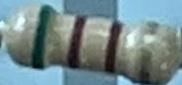Brown: (103, 19, 126, 73), (66, 16, 89, 68)
Green: (31, 4, 54, 69)
Side-Silver: (137, 21, 160, 84)
